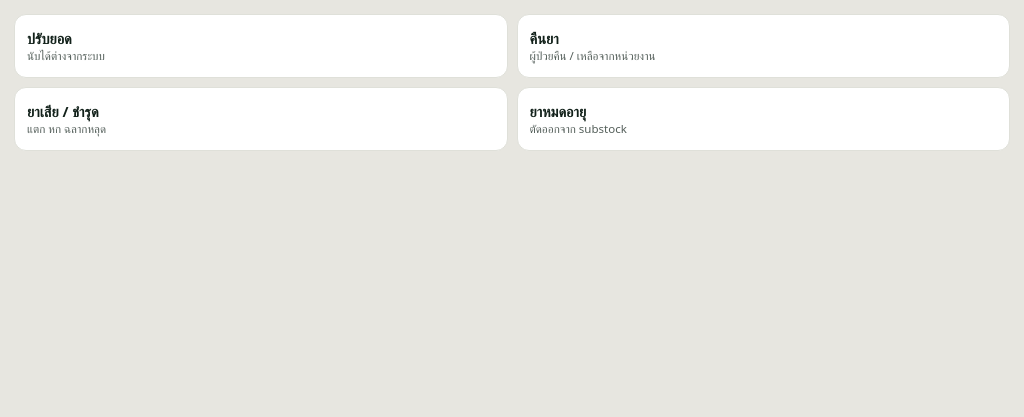
it: AdjustScreen — ตะกร้าคืนยา (return cart) regression › hides the med-search box until HN ผู้ป่วย is filled
Click the button "คืนยา ผู้ป่วยคืน / เหลือจากหน่วยงาน": {"x": 592, "y": 56} [516,14,1010,78]
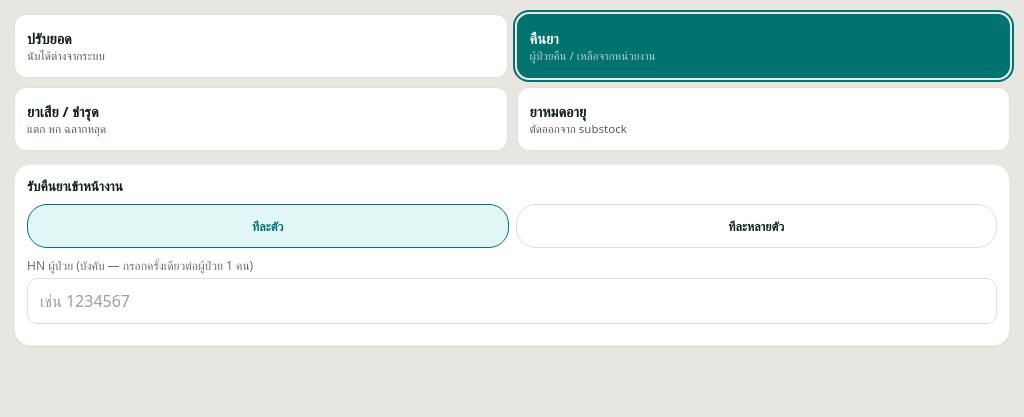
Click the button "ทีละหลายตัว": {"x": 756, "y": 226} [516,204,997,248]
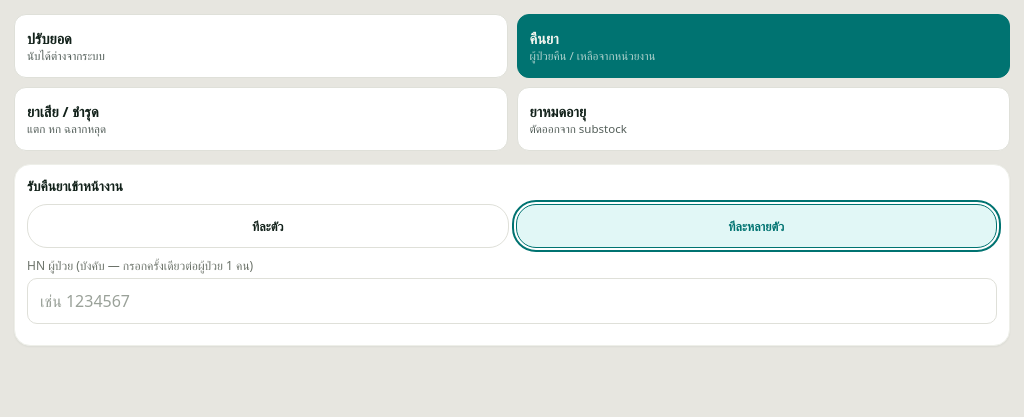
Expected: the field with placeholder "ค้นหาชื่อยา" is not shown
In the field with placeholder "เช่น 1234567": {"x": 512, "y": 301} [27,278,997,324], type "1234567"
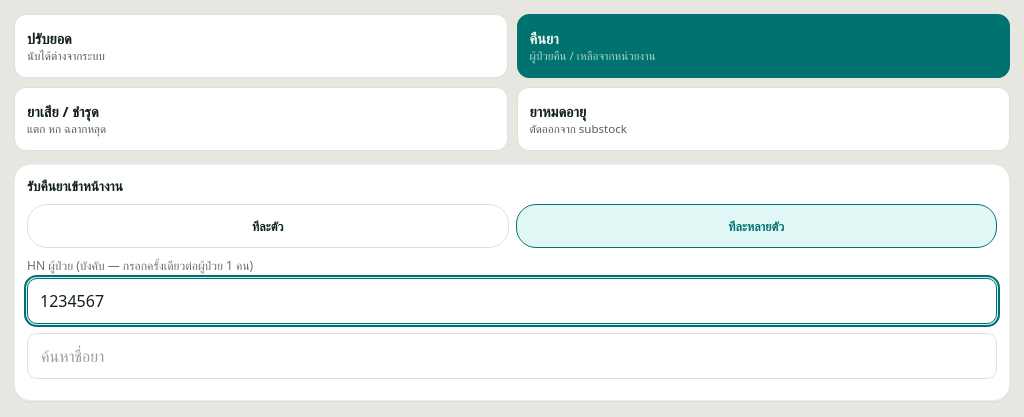
Result: the field with placeholder "ค้นหาชื่อยา" is shown at [27,333,997,379]
